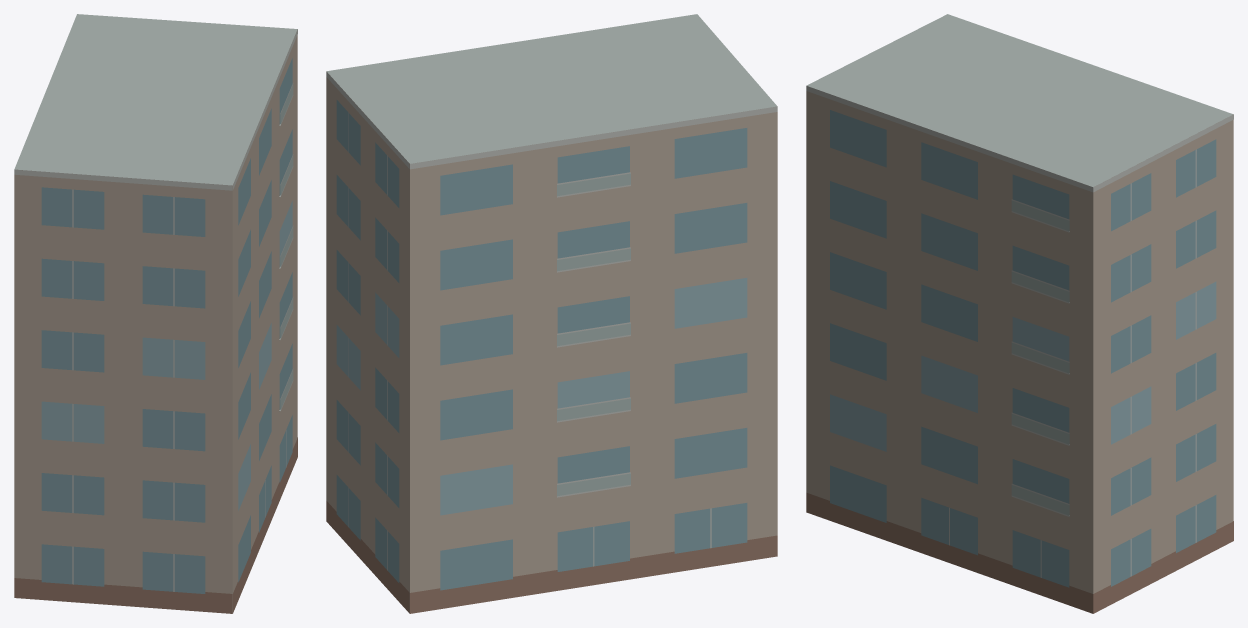
The model's file is survey-upis-33000331.glb.
The picture shows the model from 3 angles, left to right: view 1: azimuth 30°, elevation 25°; view 2: azimuth 150°, elevation 25°; view 3: azimuth 270°, elevation 25°; orthographic projection. The views are drawn at different scales.
Visible parts, largest first — view 1: survey-upis-33000331.tmp; view 2: survey-upis-33000331.tmp; view 3: survey-upis-33000331.tmp.
Part boxes in pixels (left/top/right/bottom): survey-upis-33000331.tmp: left=14, top=14, right=297, bottom=613; survey-upis-33000331.tmp: left=326, top=14, right=777, bottom=613; survey-upis-33000331.tmp: left=806, top=14, right=1233, bottom=613.
Size of the model in its own units: 17.43 by 20 by 18.17.
